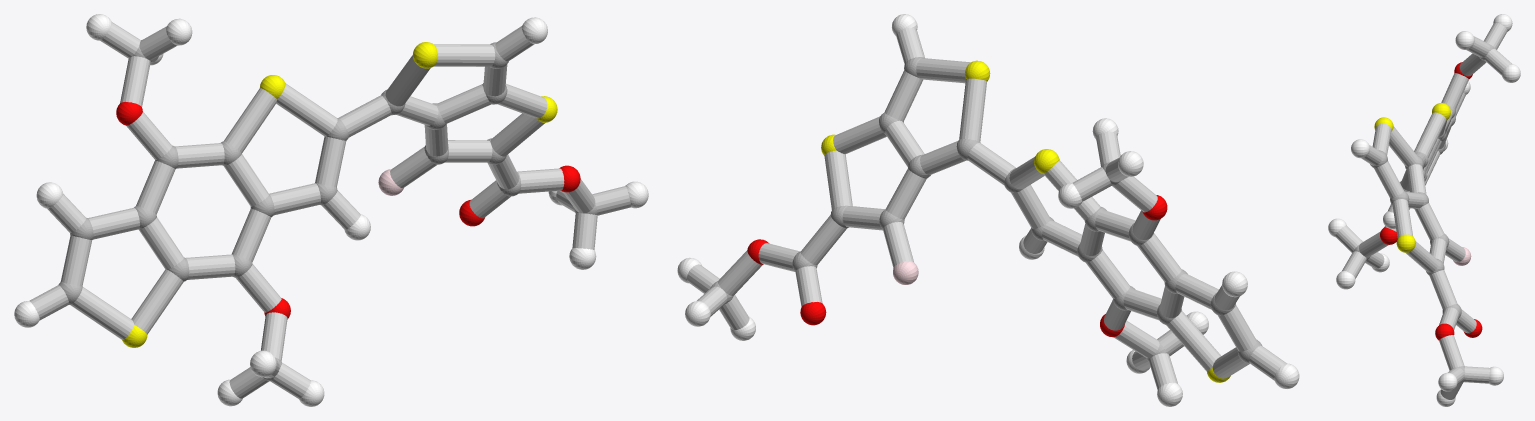
File: color.glb
3 views of the same model, side by side, from view 1: azimuth 30°, elevation 25°; view 2: azimuth 150°, elevation 25°; view 3: azimuth 270°, elevation 25° (orthographic). The views are drawn at different scales.
Parts seen in each view (by area): view 1: grp15205, grp8689, grp1, grp7241, grp13395; view 2: grp15205, grp8689, grp1, grp13395, grp7241; view 3: grp15205, grp8689, grp1, grp13395, grp7241.
Part boxes in pixels (x1,y1,x2,y2): grp15205: (29, 22, 631, 399); grp8689: (14, 14, 648, 406); grp1: (58, 40, 597, 381); grp7241: (122, 42, 557, 347); grp13395: (116, 101, 580, 319); grp15205: (687, 28, 1286, 389); grp8689: (677, 14, 1299, 406); grp1: (710, 57, 1262, 363); grp13395: (747, 195, 1167, 337); grp7241: (821, 60, 1230, 382); grp15205: (1335, 23, 1511, 399); grp8689: (1328, 14, 1520, 406); grp1: (1353, 44, 1495, 383); grp13395: (1380, 62, 1482, 340); grp7241: (1374, 103, 1450, 252).
Bounding box in the file's own units: 16.4 × 8.35 × 6.02.
